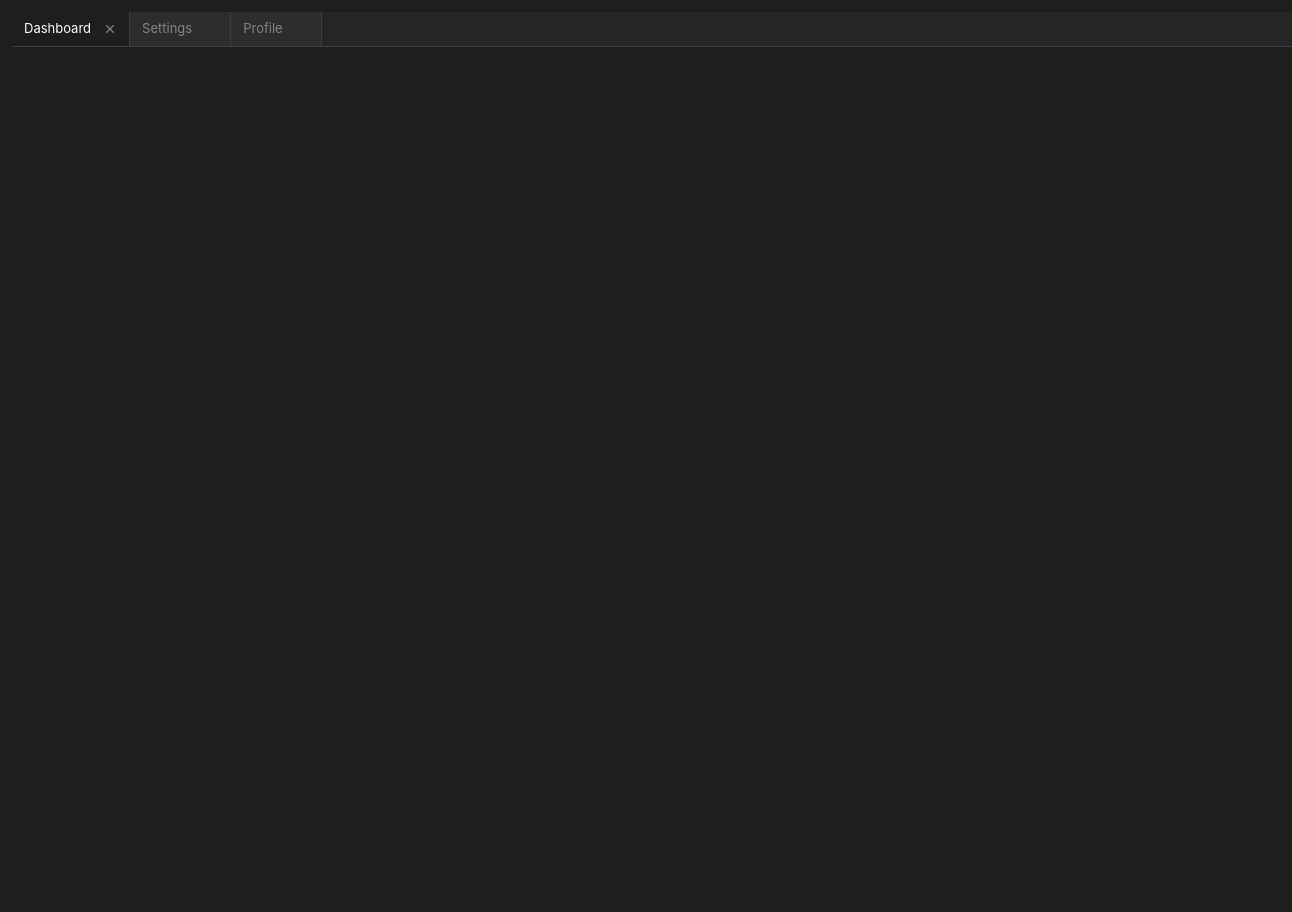
Test: TabBar › context menu › closes the context menu when clicking the overlay
The width and height of the screenshot is (1292, 912).
Right-click the tab "Dashboard" at [56, 29], box left=12, top=13, right=99, bottom=45
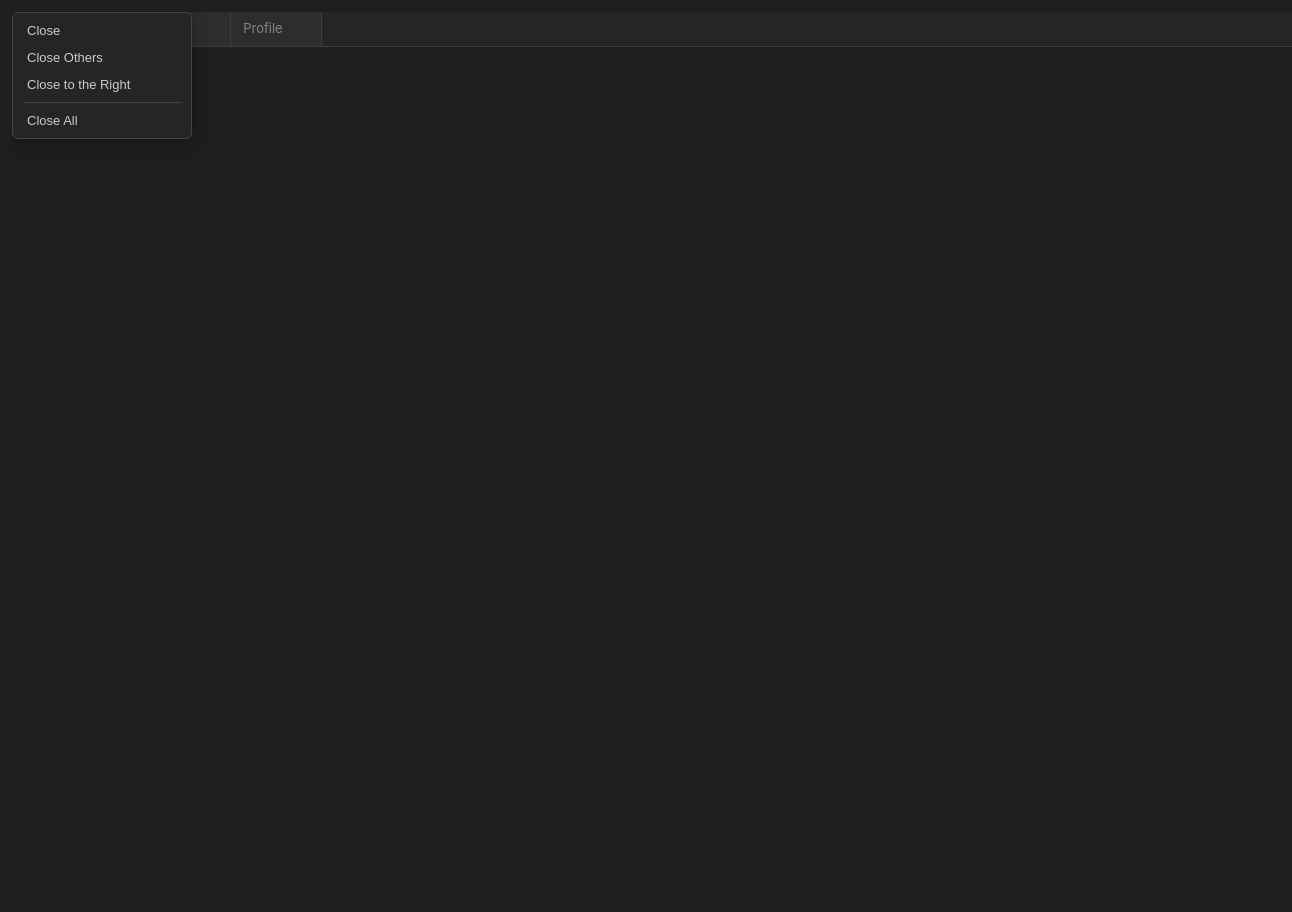
Now the menu is shown, box left=12, top=12, right=192, bottom=139
Click the element with class "tab-context-menu-overlay" at [652, 462], box left=12, top=12, right=1291, bottom=911
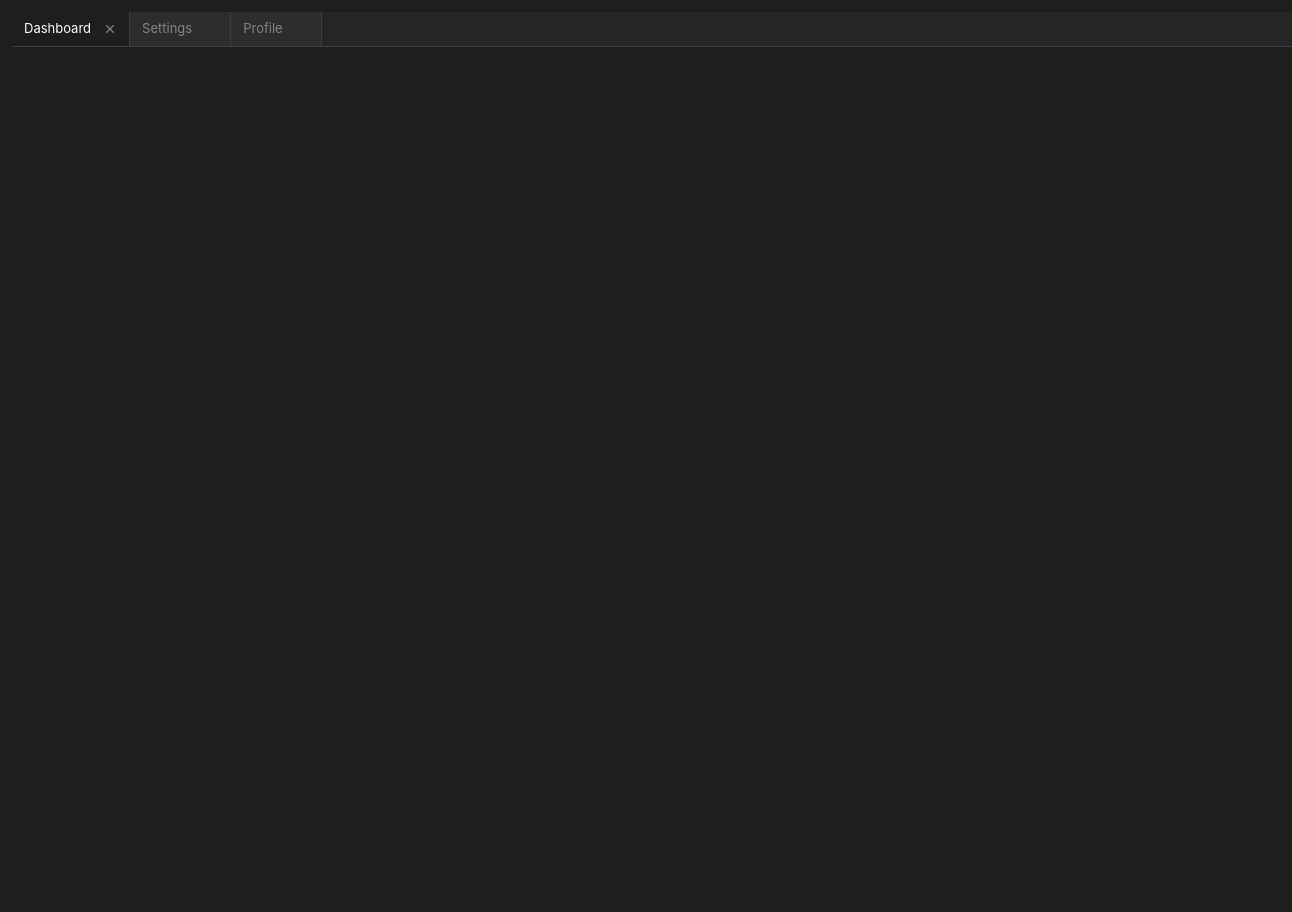
Now the menu is gone
